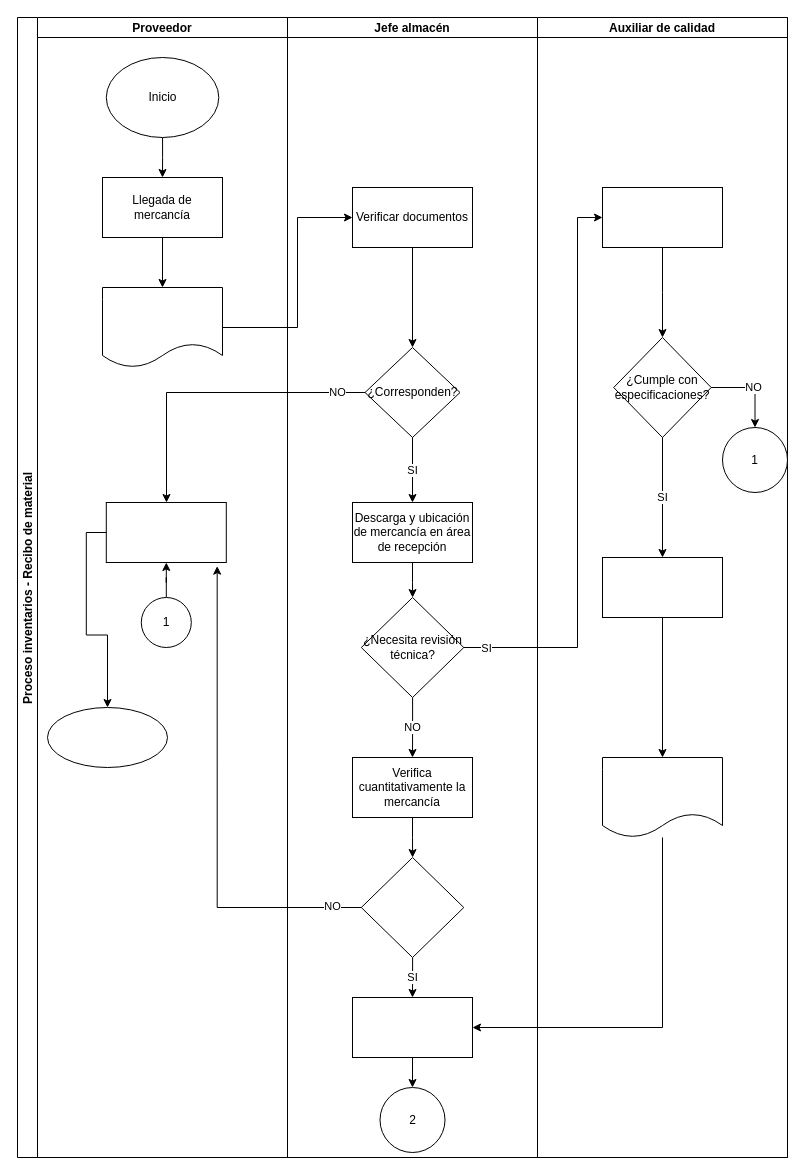
Some shapes in this 805 by 1175 pixel diagram are drawn without their labels. The shapes that lost their labels are listed below. From the top down, each one's centre as x and y in pixels, then its label:
At point 662,217: "Hace inspección de especificaciones técnicas".
At point 162,327: "Entrega OC y copia de factura".
At point 165,532: "Se notifica el rechazo por incumplimiento".
At point 662,587: "Aprueba recepción de mercancía".
At point 107,737: "Fin".
At point 662,797: "Coloca etiqueta de cumplimiento".
At point 412,907: "¿La cantidad es correcta?".
At point 412,1027: "Aceptación de mercancía y comunica al proveedor".
